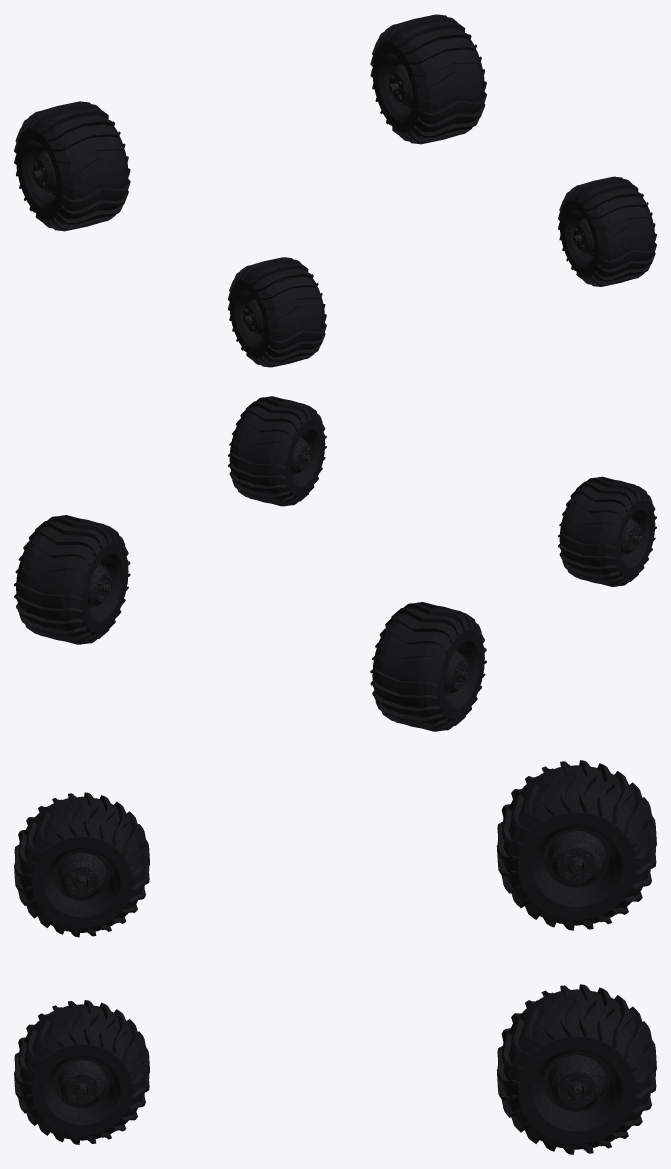
The model's file is Trukk Basic Build Wheels.fbx.
3 views of the same model, one above another, from view 1: azimuth 30°, elevation 25°; view 2: azimuth 150°, elevation 25°; view 3: azimuth 270°, elevation 25° (orthographic). The views are drawn at different scales.
Visible parts, largest first — view 1: Tire_1_6, Tire_1_3, Tire_1_1, Tire_1_8, Group5, Group9, Group12, Group2, Group6, Group8, Group3, Group11 (+4 smaller); view 2: Tire_1_3, Tire_1_6, Tire_1_1, Tire_1_8, Group9, Group5, Group2, Group12, Group8, Group6, Group3, Group11 (+4 smaller); view 3: Tire_1_5, Tire_1_4, Tire_1_7, Tire_1_2, Group6, Group8, Group3, Group11, Group5, Group9, Group12, Group2 (+3 smaller).
Part boxes in pixels (<box>): Tire_1_6: <box>372,25,457,138</box>; Tire_1_3: <box>16,112,100,225</box>; Tire_1_1: <box>229,266,301,362</box>; Tire_1_8: <box>559,186,631,282</box>; Group5: <box>14,106,103,231</box>; Group9: <box>370,19,459,144</box>; Group12: <box>558,180,633,286</box>; Group2: <box>228,261,303,367</box>; Group6: <box>58,101,130,226</box>; Group8: <box>415,14,486,139</box>; Group3: <box>266,257,326,363</box>; Group11: <box>595,176,656,282</box>; Tire_1_3: <box>400,614,484,726</box>; Tire_1_6: <box>43,527,128,639</box>; Tire_1_1: <box>583,487,655,582</box>; Tire_1_8: <box>253,407,325,501</box>; Group9: <box>41,519,130,644</box>; Group5: <box>397,606,486,731</box>; Group2: <box>581,480,656,586</box>; Group12: <box>251,400,326,506</box>; Group8: <box>14,515,87,639</box>; Group6: <box>370,602,443,726</box>; Group3: <box>558,476,620,582</box>; Group11: <box>228,396,290,502</box>; Tire_1_5: <box>503,1002,650,1149</box>; Tire_1_4: <box>503,778,650,925</box>; Tire_1_7: <box>19,1015,145,1140</box>; Tire_1_2: <box>19,807,145,932</box>; Group6: <box>496,773,656,930</box>; Group8: <box>496,997,656,1154</box>; Group3: <box>14,803,149,937</box>; Group11: <box>14,1011,149,1144</box>; Group5: <box>497,760,656,872</box>; Group9: <box>497,984,656,1096</box>; Group12: <box>14,1000,149,1095</box>; Group2: <box>14,792,149,888</box>.
Bounding box in the file's own units: 32.6 × 8.11 × 32.49.
